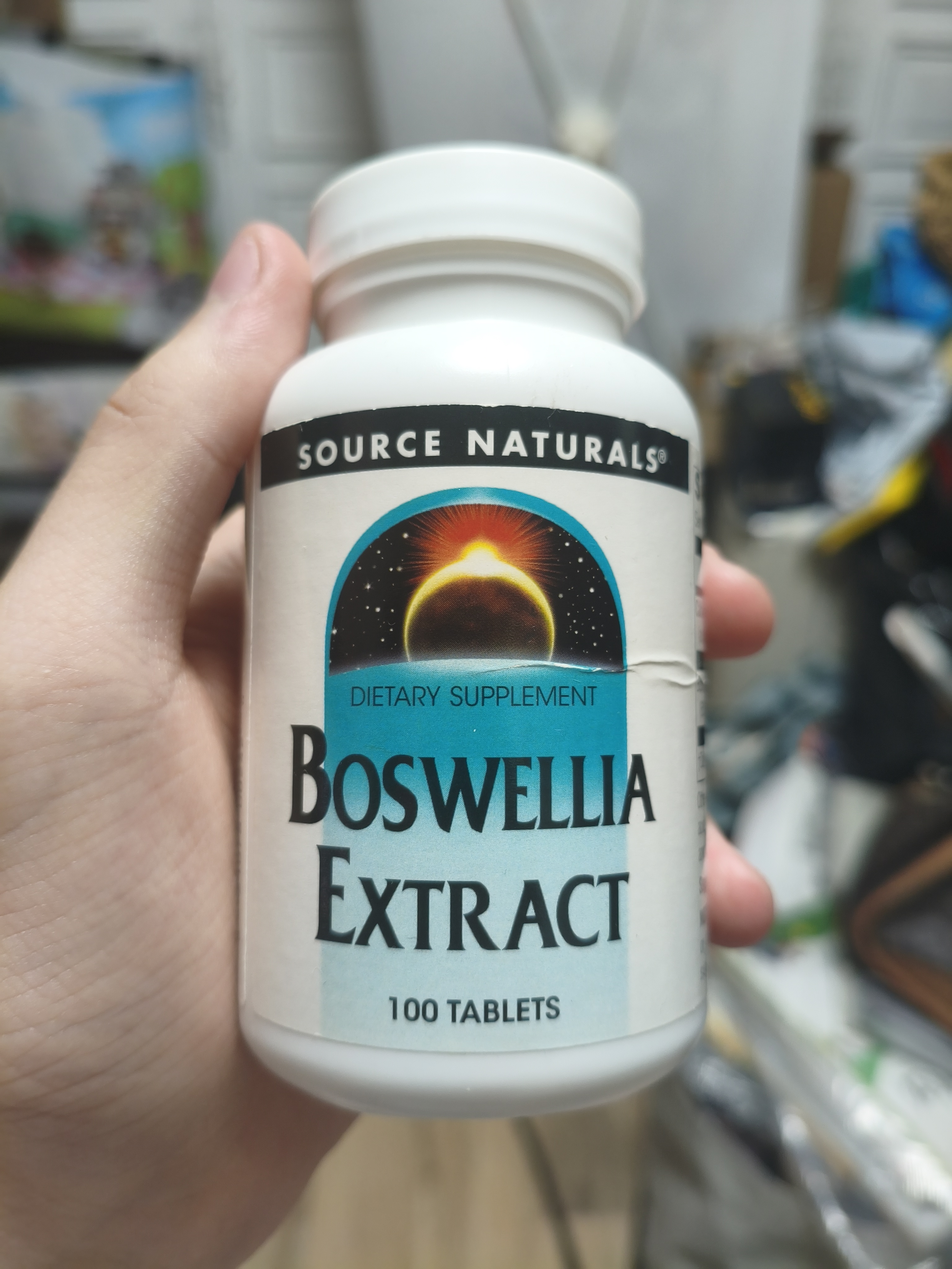supplement_label: (232, 400, 712, 1056)
